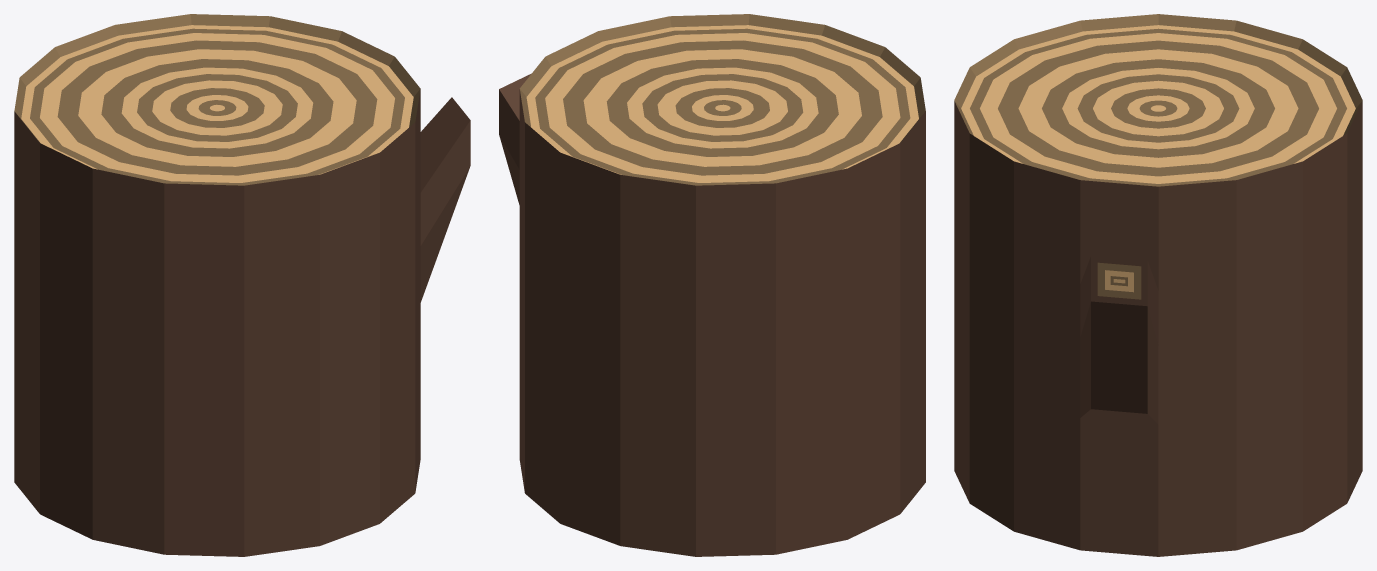
File: WoodDrop.fbx
3 renders of one model, left to right at view 1: azimuth 30°, elevation 25°; view 2: azimuth 150°, elevation 25°; view 3: azimuth 270°, elevation 25°, orthographic.
Visible parts, largest first — view 1: Cylinder; view 2: Cylinder; view 3: Cylinder.
Boxes of the visible parts, bbox=[...] form: Cylinder: bbox=[14, 14, 470, 556]; Cylinder: bbox=[499, 14, 925, 556]; Cylinder: bbox=[954, 14, 1362, 556].
Size of the model in its own units: 137 by 119 by 119.
